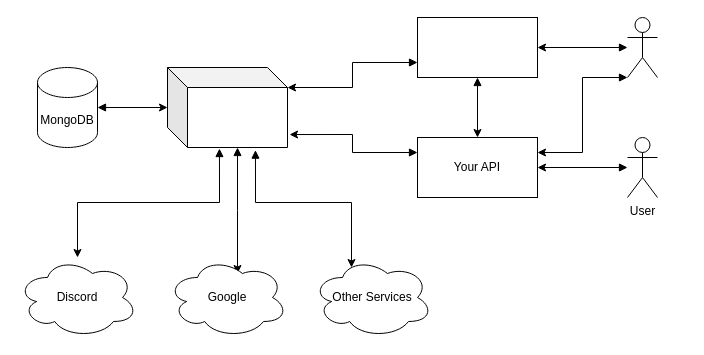
This 704x355 diagram has some shape labels left out. The centre of each missing label's shape, as x and y in pixels:
"ReAuth" goes at point 227,107.
"Third Party Devs" goes at point 642,47.
"Your App Client" goes at point 477,47.
